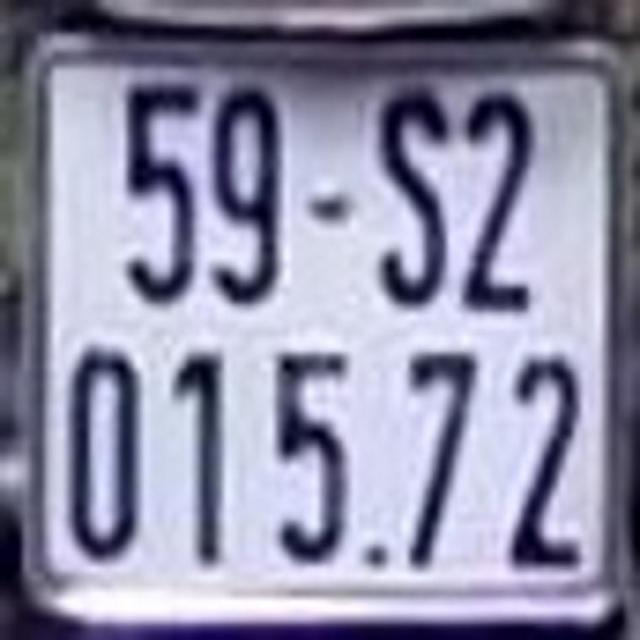0: (64, 339, 148, 559)
1: (168, 338, 234, 567)
2: (508, 343, 590, 576), (464, 76, 534, 319)
5: (121, 68, 199, 316), (268, 344, 352, 564)
7: (402, 338, 480, 573)
9: (215, 72, 282, 309)
S: (371, 79, 454, 308)
